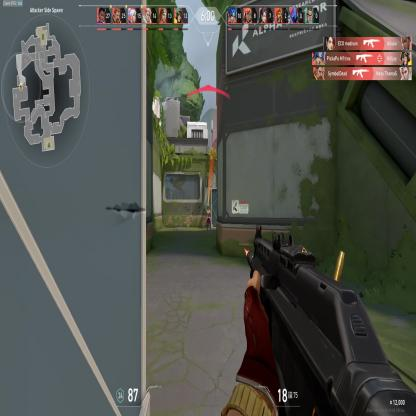enemy: (205, 203, 213, 234)
